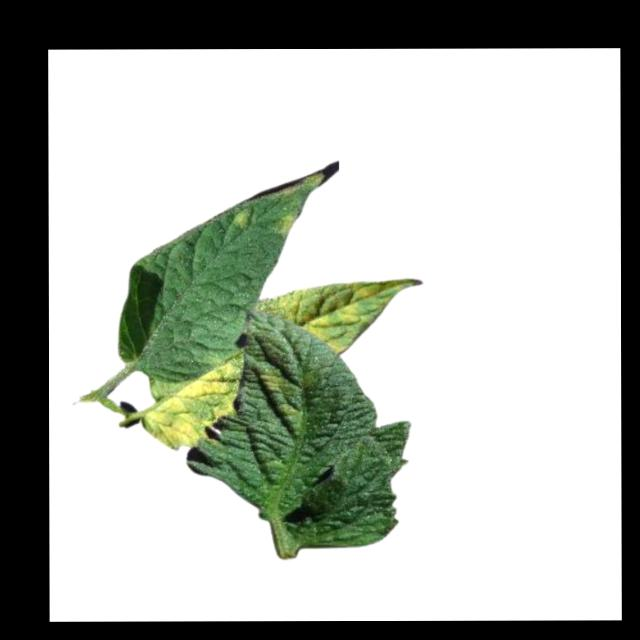Leaf_Mold: (261, 279, 422, 354), (141, 354, 237, 450), (256, 370, 290, 396), (227, 209, 254, 231), (274, 211, 296, 238)
